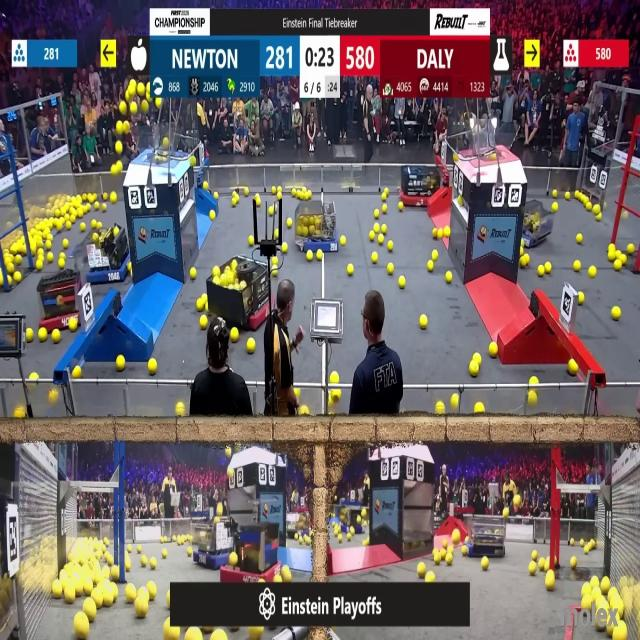ball_airborne: (119, 100, 126, 115), (109, 191, 117, 204), (140, 100, 148, 113), (115, 140, 122, 153), (123, 121, 130, 134), (138, 82, 145, 94), (110, 164, 117, 175), (155, 98, 162, 108), (130, 102, 136, 113), (116, 160, 121, 172), (116, 123, 122, 133), (124, 90, 129, 100)
ball_ground: (147, 357, 157, 374), (246, 337, 256, 354), (568, 358, 578, 375), (116, 355, 126, 371), (468, 360, 478, 376), (328, 371, 340, 384), (175, 400, 186, 414), (68, 316, 78, 331), (38, 327, 48, 341), (611, 306, 621, 320), (450, 393, 458, 410), (230, 327, 239, 342), (72, 365, 82, 378), (51, 329, 60, 343), (419, 315, 428, 329), (488, 342, 497, 356), (528, 389, 536, 404), (196, 297, 204, 311), (200, 314, 208, 328), (474, 401, 484, 412), (328, 389, 339, 398), (76, 206, 84, 218), (473, 353, 481, 365), (26, 327, 33, 340), (445, 270, 452, 283), (35, 259, 43, 270), (398, 276, 406, 287), (436, 401, 444, 412), (387, 262, 394, 274), (574, 260, 581, 272), (529, 375, 538, 384), (614, 260, 622, 270), (190, 267, 196, 280), (232, 193, 238, 206), (316, 249, 323, 260), (347, 264, 354, 275), (386, 240, 393, 251), (537, 265, 544, 276), (282, 241, 288, 253), (578, 292, 584, 304), (14, 272, 21, 282), (7, 263, 14, 273), (306, 250, 313, 260), (371, 252, 378, 262), (627, 244, 634, 254), (56, 219, 62, 230), (432, 249, 438, 260), (524, 254, 530, 265), (14, 255, 21, 264), (83, 203, 90, 212), (608, 252, 615, 261), (47, 252, 53, 262), (62, 238, 68, 248), (286, 218, 292, 228), (378, 234, 384, 244), (544, 262, 550, 272), (576, 233, 582, 243), (30, 372, 38, 379), (593, 204, 600, 212), (608, 243, 615, 251), (428, 260, 433, 271), (621, 254, 626, 265), (65, 220, 71, 229), (254, 196, 260, 205), (444, 227, 450, 236), (582, 194, 587, 204), (58, 260, 64, 268), (59, 251, 65, 259), (80, 222, 86, 230), (340, 236, 346, 244), (248, 236, 254, 244), (374, 223, 380, 231), (596, 212, 602, 220), (586, 202, 592, 210), (210, 211, 215, 220), (369, 232, 374, 241), (96, 221, 102, 228), (202, 181, 208, 188), (616, 250, 622, 257), (8, 275, 12, 285), (91, 220, 96, 228), (46, 240, 51, 248), (291, 188, 296, 196), (382, 223, 386, 233), (374, 209, 379, 217), (382, 204, 387, 212), (398, 202, 403, 210), (438, 228, 442, 238), (520, 256, 524, 266), (70, 215, 76, 221), (89, 194, 94, 201), (552, 189, 557, 196), (565, 192, 570, 199), (94, 192, 98, 200), (244, 187, 248, 195), (269, 206, 273, 214), (432, 228, 436, 236), (94, 203, 99, 209), (47, 233, 52, 239), (102, 204, 106, 211), (102, 192, 106, 199), (214, 191, 218, 198), (272, 187, 276, 194), (302, 187, 306, 194), (382, 193, 386, 200), (384, 188, 388, 193), (278, 193, 281, 199), (278, 186, 281, 191), (327, 356, 328, 365)
goal: (466, 117, 520, 154), (130, 126, 182, 158)
robot_blue: (83, 227, 131, 284), (191, 516, 240, 568), (295, 199, 339, 253), (466, 514, 506, 554), (524, 198, 552, 244)
robot_red: (208, 256, 276, 329), (224, 522, 283, 584), (39, 268, 83, 332), (400, 165, 442, 208)
